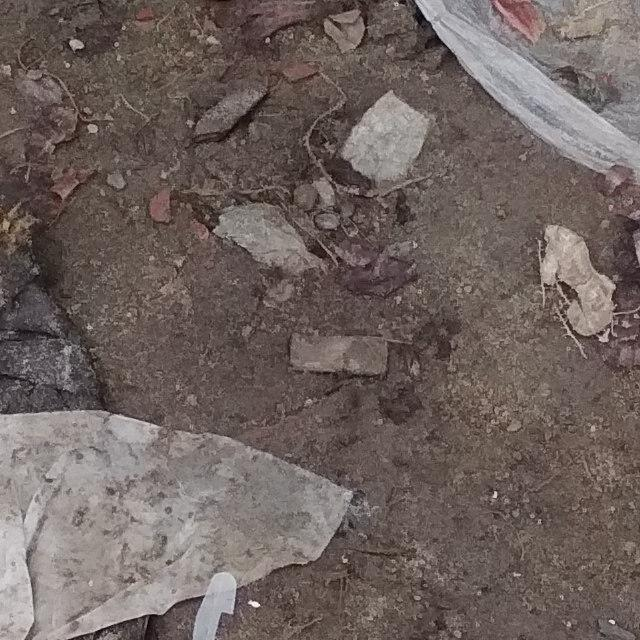paper: (0, 319, 358, 640)
plastic: (246, 0, 640, 277)
